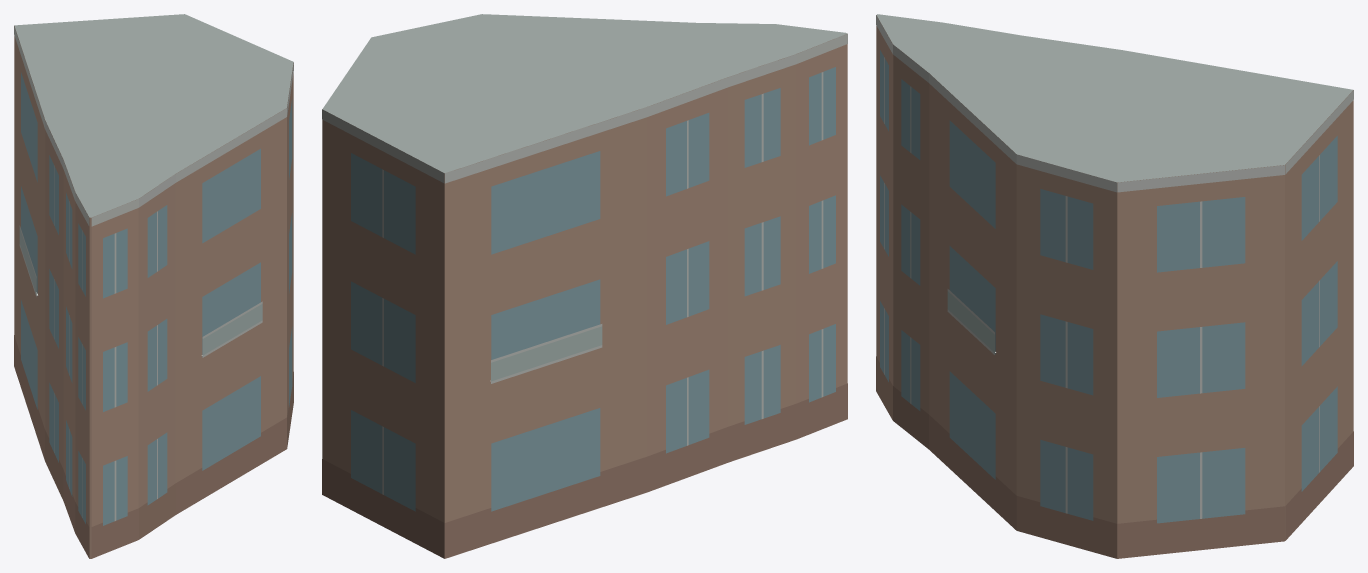
Rendered from survey-upis-32472147.glb.
3 renders of one model, left to right at view 1: azimuth 30°, elevation 25°; view 2: azimuth 150°, elevation 25°; view 3: azimuth 270°, elevation 25°, orthographic. The views are drawn at different scales.
Parts seen in each view (by area): view 1: survey-upis-32472147.tmp; view 2: survey-upis-32472147.tmp; view 3: survey-upis-32472147.tmp.
Boxes of the visible parts, x1,y1,x2,y2 form: survey-upis-32472147.tmp: (14, 14, 293, 558); survey-upis-32472147.tmp: (322, 14, 847, 558); survey-upis-32472147.tmp: (876, 14, 1353, 558).
Size of the model in its own units: 8.79 by 9.15 by 10.53.
